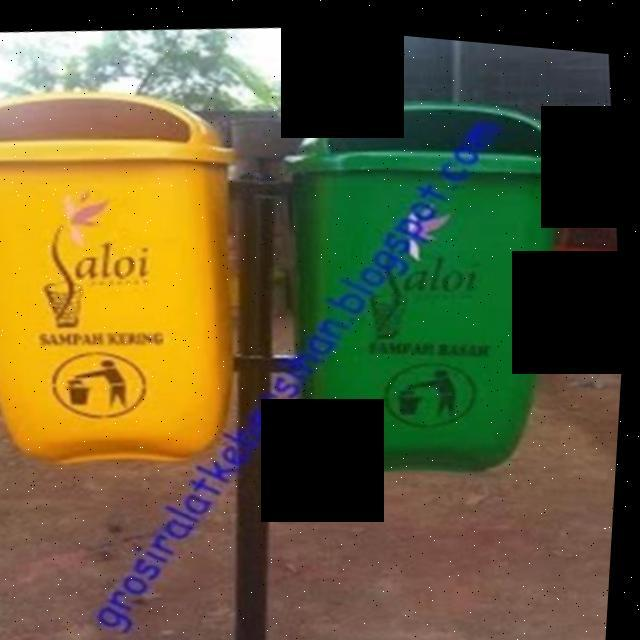bin: (240, 43, 639, 496), (0, 63, 294, 498)
